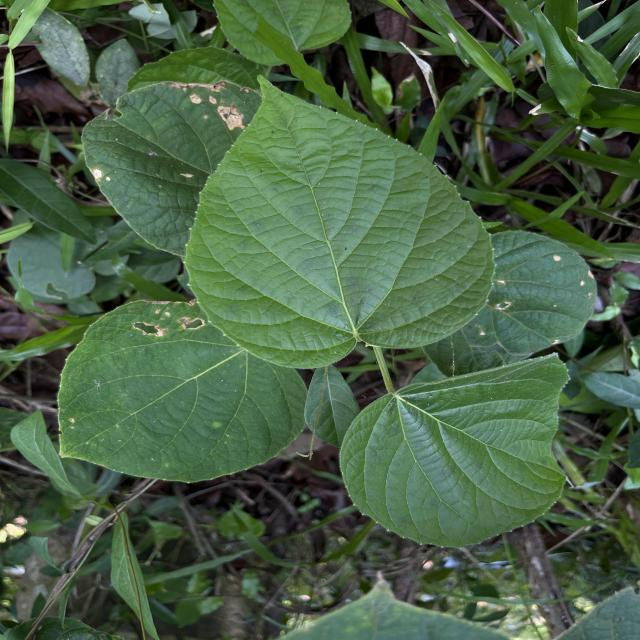Clerodendrum infortunatum: (178, 69, 500, 373), (52, 296, 308, 486), (335, 350, 571, 552)
